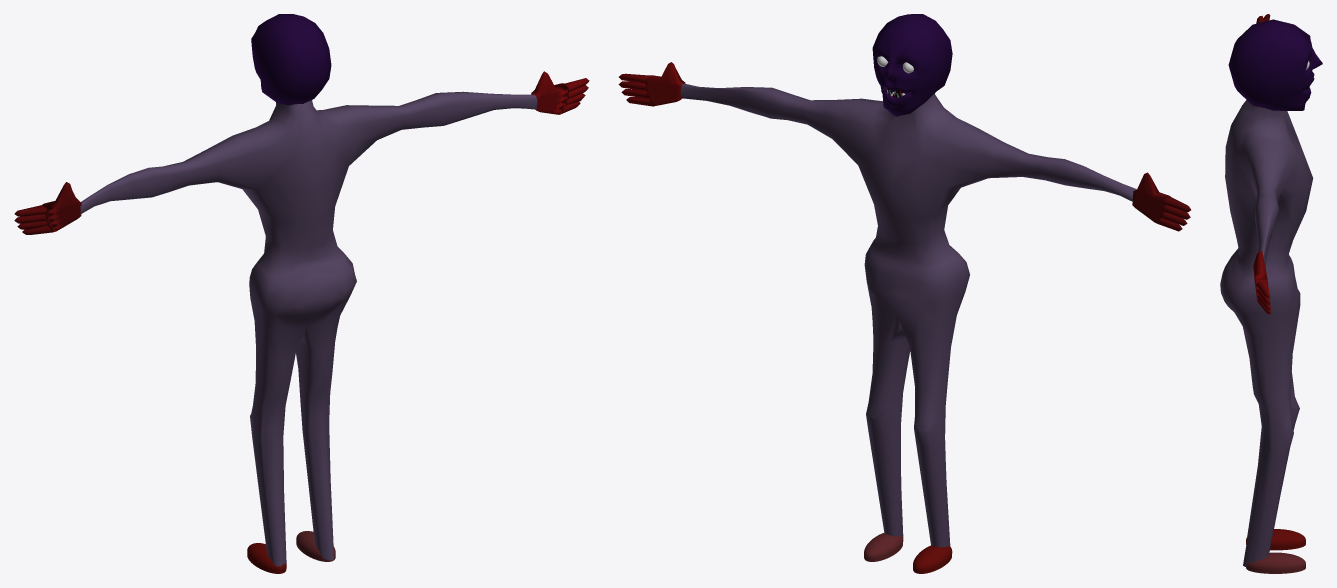
Rendered from monster.2.fbx.
The picture shows the model from 3 angles, left to right: view 1: azimuth 30°, elevation 25°; view 2: azimuth 150°, elevation 25°; view 3: azimuth 270°, elevation 25°; orthographic projection.
Visible parts, largest first — view 1: 立方体, 球, 立方体.002, 立方体.001; view 2: 立方体, 球, 立方体.001, 立方体.002, 球.003, 球.004; view 3: 立方体, 球, 球.004, 立方体.001, 球.003.
Part boxes in pixels (x1,y1,x2,y2): 立方体: (80,91,537,566); 球: (251,14,331,105); 立方体.002: (14,182,81,234); 立方体.001: (531,71,589,114); 立方体: (680,83,1136,547); 球: (872,14,952,116); 立方体.001: (618,62,685,106); 立方体.002: (1132,172,1190,231); 球.003: (913,545,952,573); 球.004: (864,533,903,561); 立方体: (1220,100,1313,566); 球: (1228,19,1322,110); 球.004: (1246,552,1305,573); 立方体.001: (1253,251,1270,314); 球.003: (1246,529,1305,550).
Bounding box in the file's own units: 1933 × 1742 × 304.
